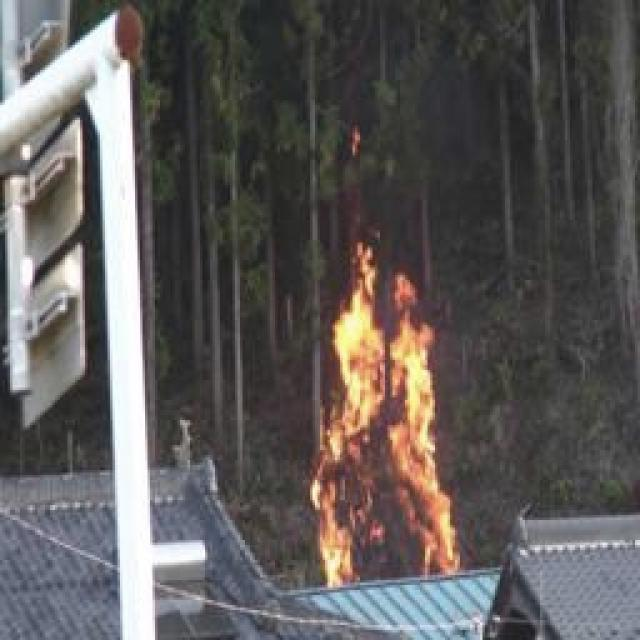Fire: (312, 260, 461, 588)
